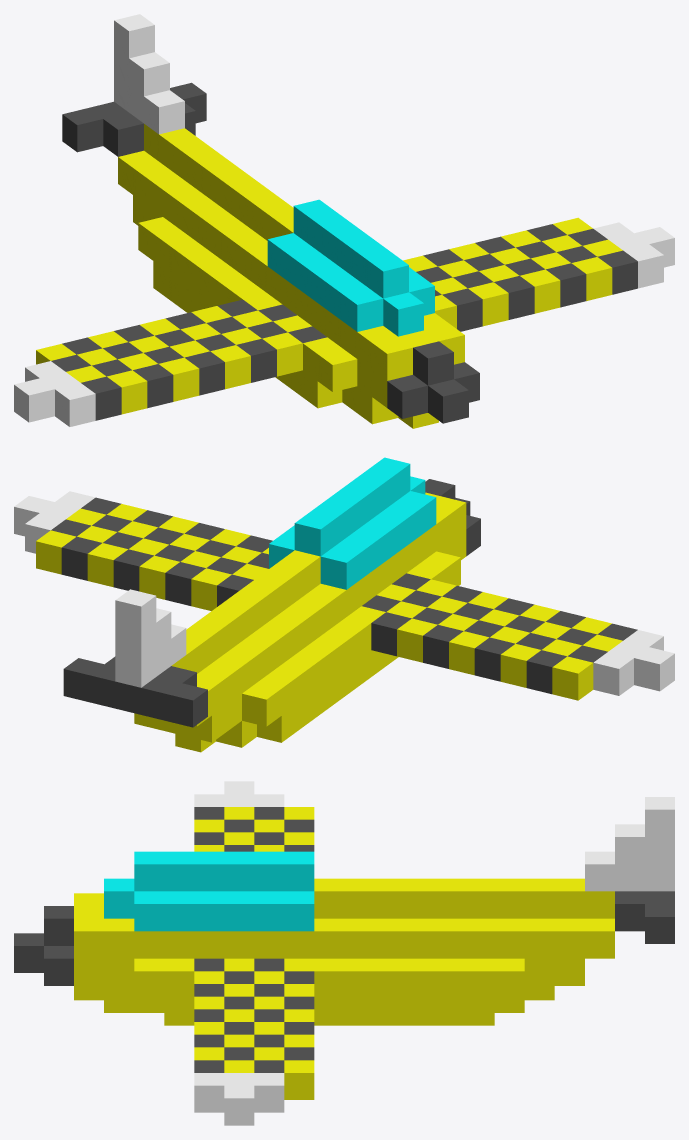
3 renders of one model, top to bottom at view 1: azimuth 30°, elevation 25°; view 2: azimuth 150°, elevation 25°; view 3: azimuth 270°, elevation 25°, orthographic.
Visible parts, largest first — view 1: Cube_324; view 2: Cube_324; view 3: Cube_324.
Part boxes in pixels (left/top/right/bottom): Cube_324: left=14, top=14, right=674, bottom=428; Cube_324: left=14, top=457, right=674, bottom=752; Cube_324: left=14, top=781, right=674, bottom=1125.
Bounding box in the file's own units: 4990 × 1400 × 4400.
